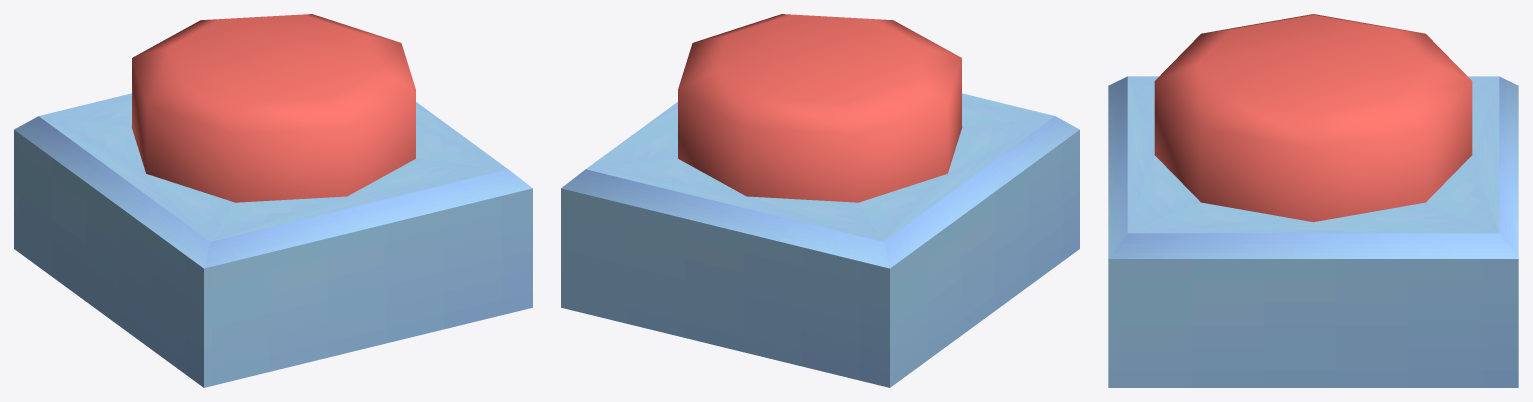
Rendered from Button.fbx.
3 renders of one model, left to right at view 1: azimuth 30°, elevation 25°; view 2: azimuth 150°, elevation 25°; view 3: azimuth 270°, elevation 25°, orthographic. The views are drawn at different scales.
Visible parts, largest first — view 1: button_red, button_red.001; view 2: button_red, button_red.001; view 3: button_red, button_red.001.
Boxes of the visible parts, bbox=[...] form: button_red: bbox=[14, 93, 532, 387]; button_red.001: bbox=[132, 14, 415, 202]; button_red: bbox=[561, 93, 1079, 387]; button_red.001: bbox=[678, 14, 961, 202]; button_red: bbox=[1108, 76, 1518, 387]; button_red.001: bbox=[1154, 14, 1472, 222].
Bounding box in the file's own units: 1 × 0.6383 × 1.
